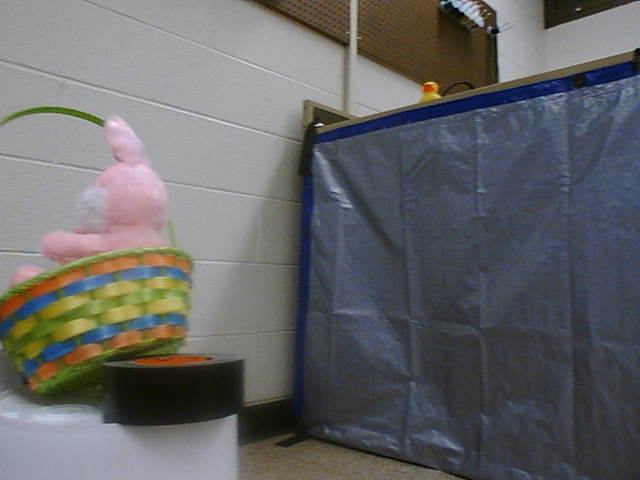bunny: (1, 102, 196, 406)
